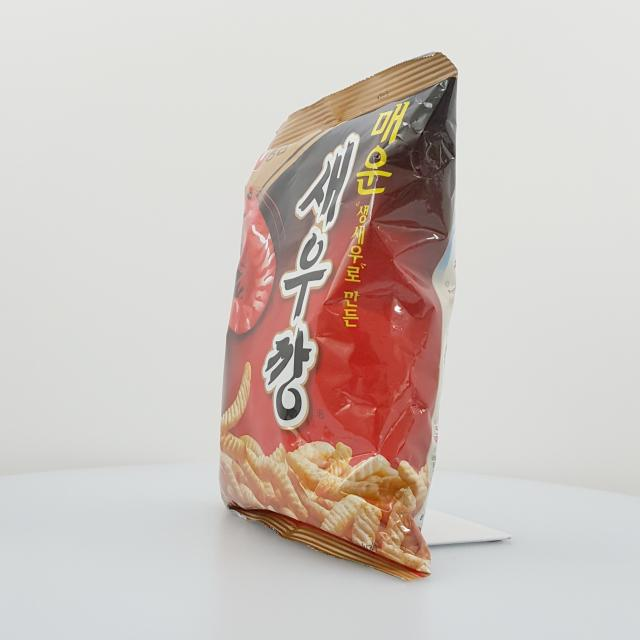-90G: (220, 53, 459, 584)
